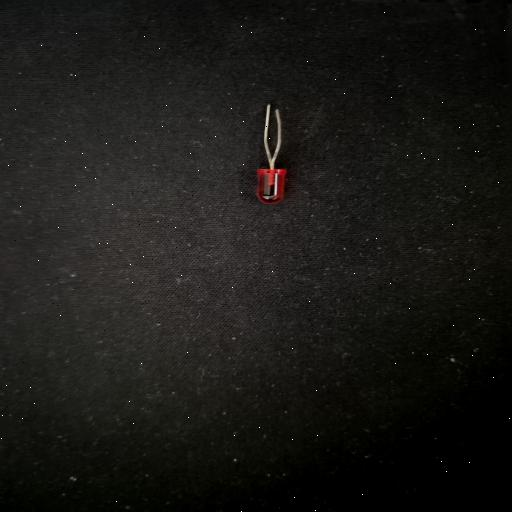led-diode: (244, 98, 294, 206)
